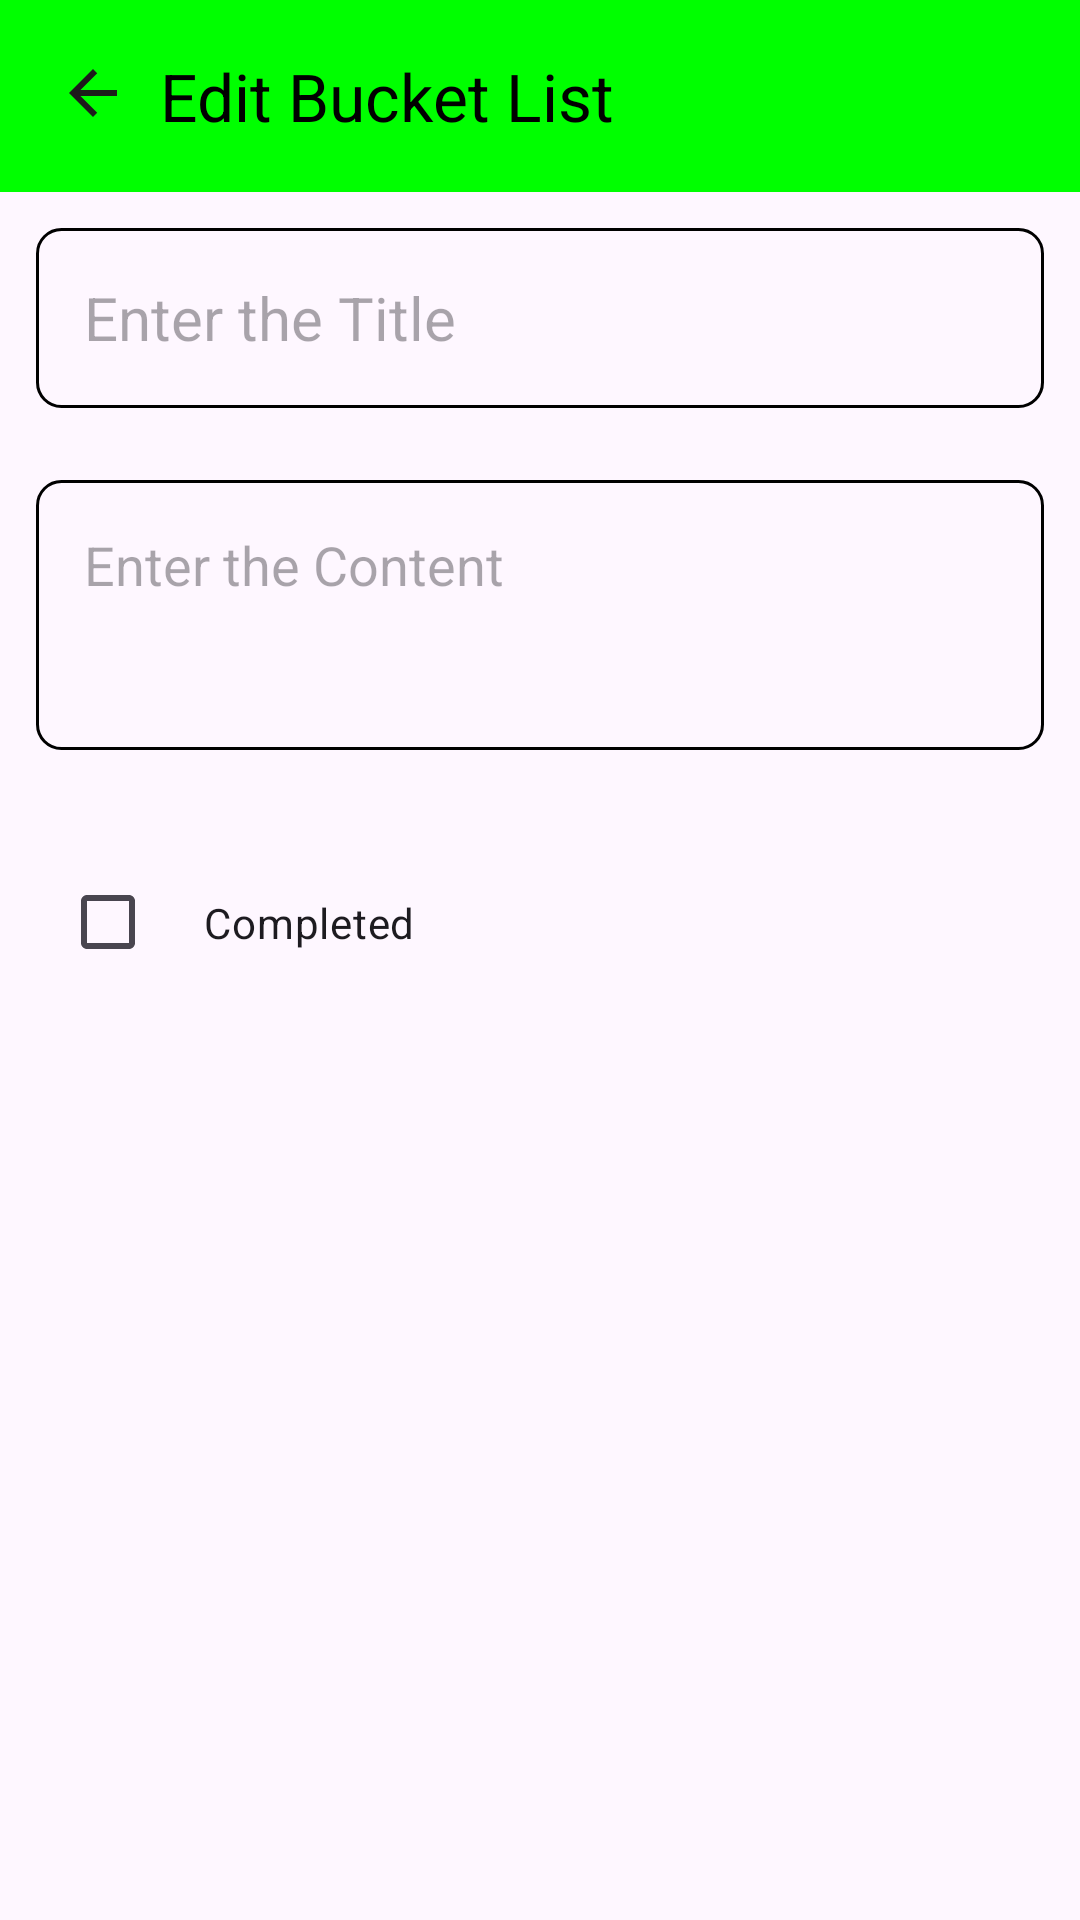

Locate icon controls on the screen. Image size 1080 x 1920, boxes as (x1, y1, x2, y2).
arrow back: (69, 69, 117, 117)
